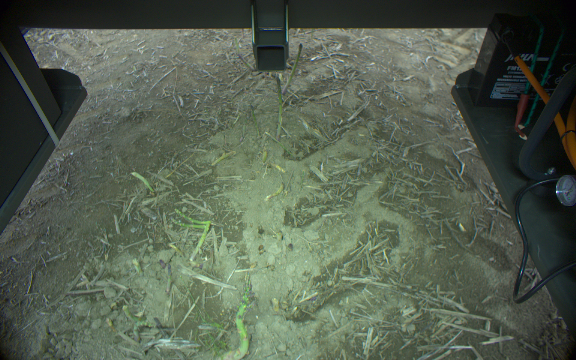aspa: (228, 285, 256, 360), (284, 41, 303, 92), (189, 224, 210, 262), (273, 76, 285, 142), (129, 169, 157, 194), (172, 207, 212, 224), (130, 318, 156, 342), (169, 216, 205, 231), (163, 259, 176, 294), (236, 51, 254, 72), (120, 304, 139, 321)
